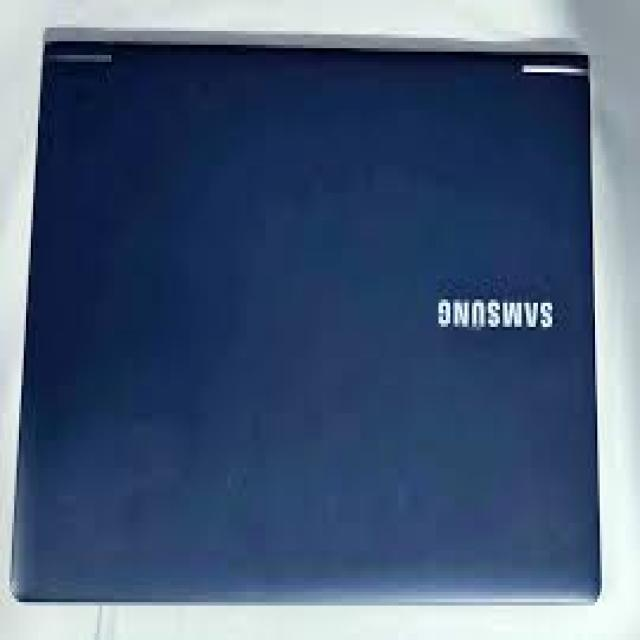laptop: (7, 24, 602, 606)
